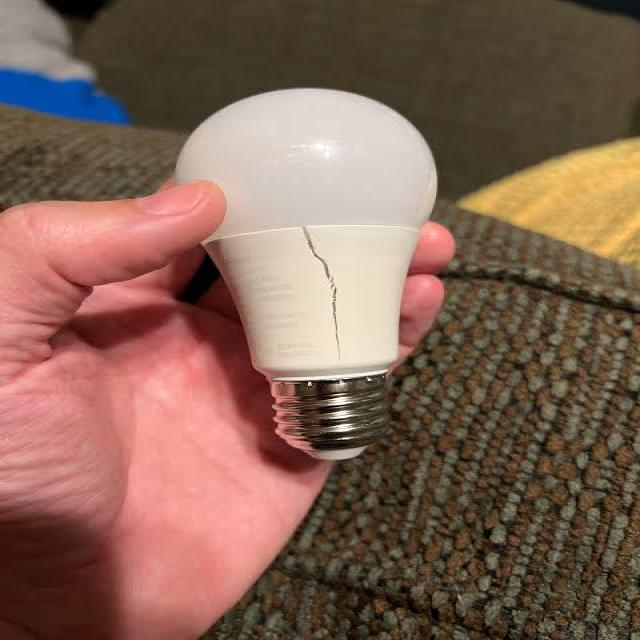bulb: (146, 90, 457, 473)
